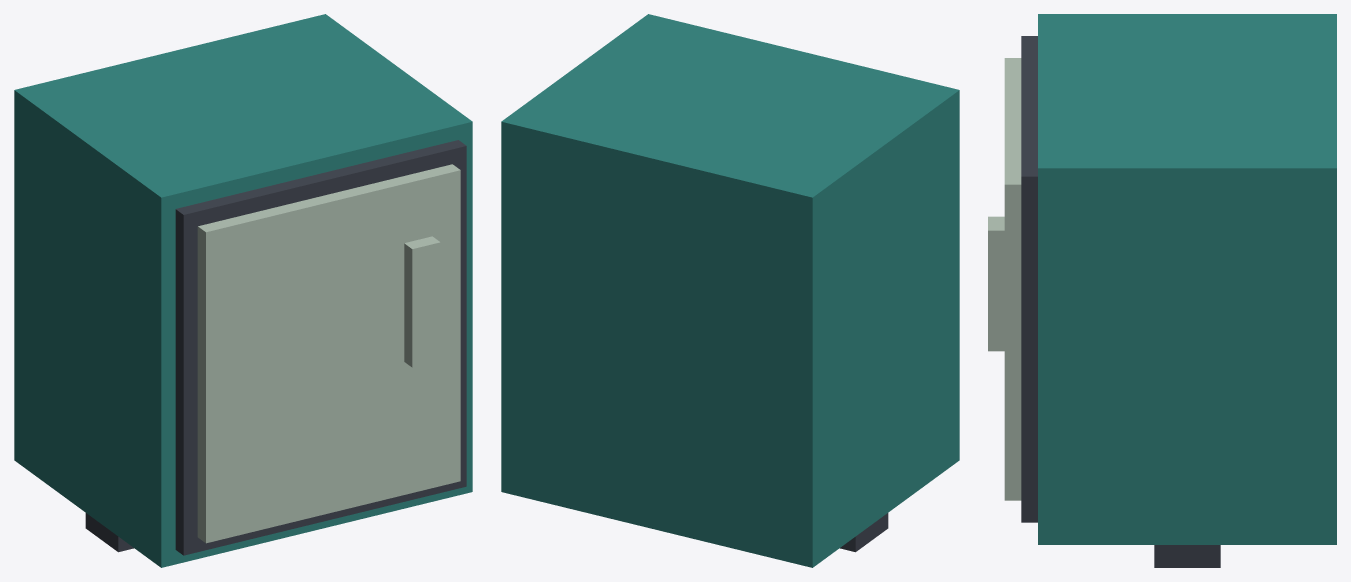
File: voxel_32_20003.glb
The picture shows the model from 3 angles, left to right: view 1: azimuth 30°, elevation 25°; view 2: azimuth 150°, elevation 25°; view 3: azimuth 270°, elevation 25°; orthographic projection.
Visible parts, largest first — view 1: prop_20003; view 2: prop_20003; view 3: prop_20003.
Part boxes in pixels (x1=…): prop_20003: x1=14, y1=14, x2=472, y2=567; prop_20003: x1=501, y1=14, x2=959, y2=567; prop_20003: x1=988, y1=14, x2=1336, y2=567.
Bounding box in the file's own units: 0.5706 × 0.7003 × 0.5447.
